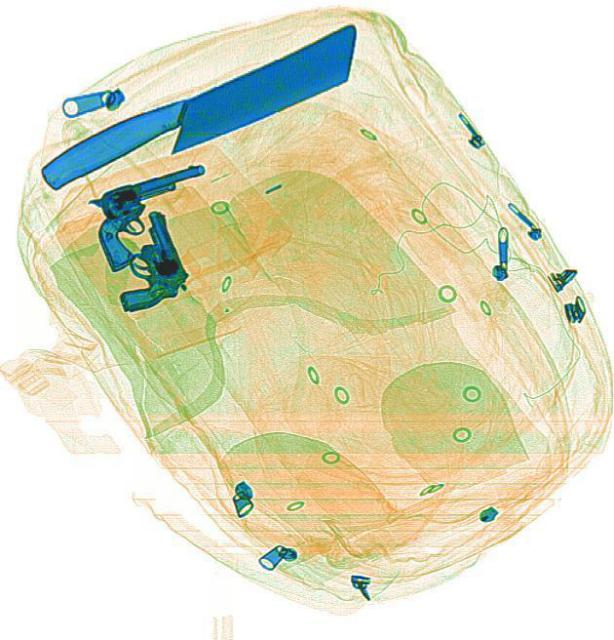Gun: (81, 162, 226, 272), (89, 205, 194, 315)
Knife: (28, 20, 375, 202)
